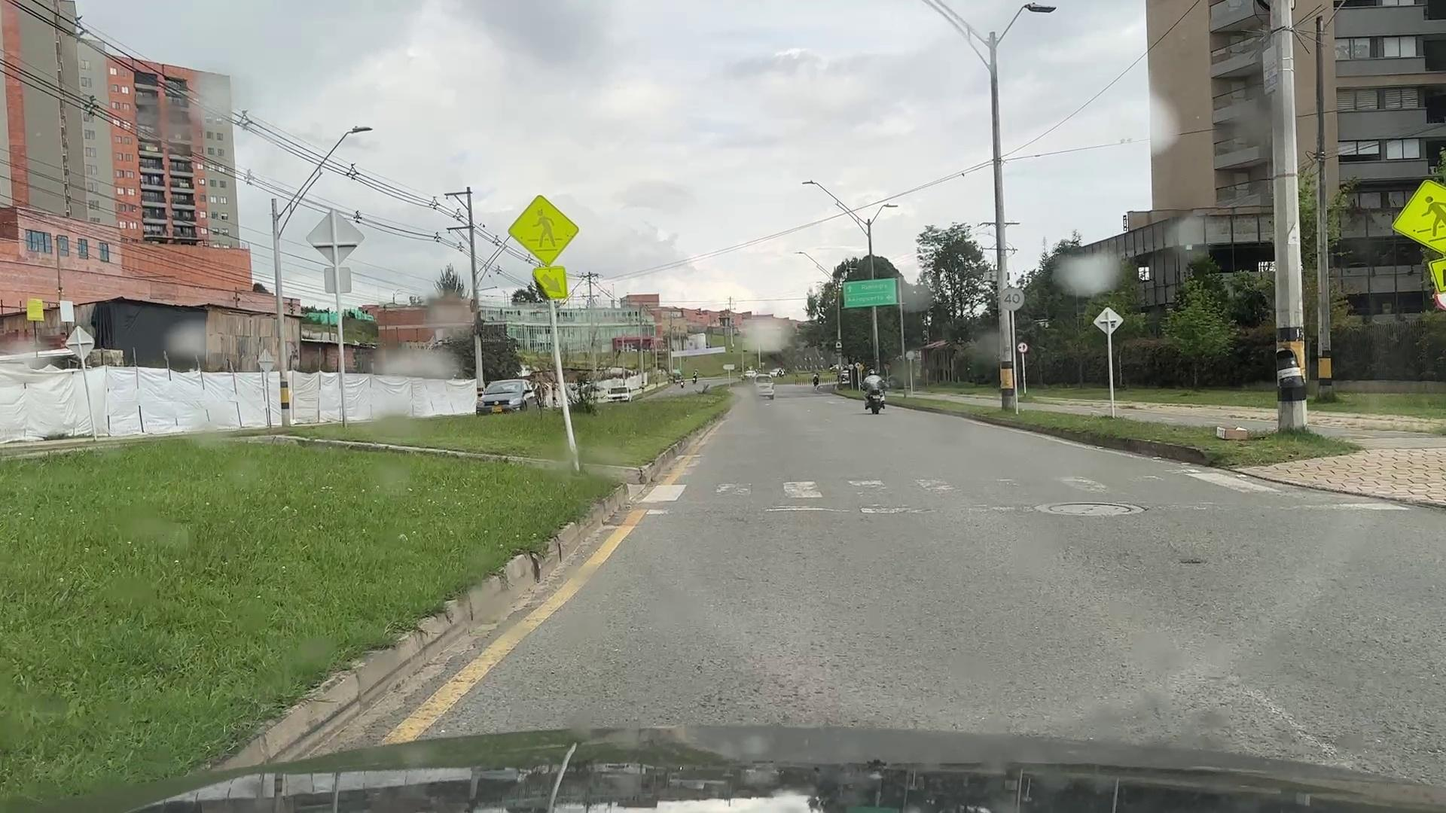registro: (1048, 502, 1131, 514)
